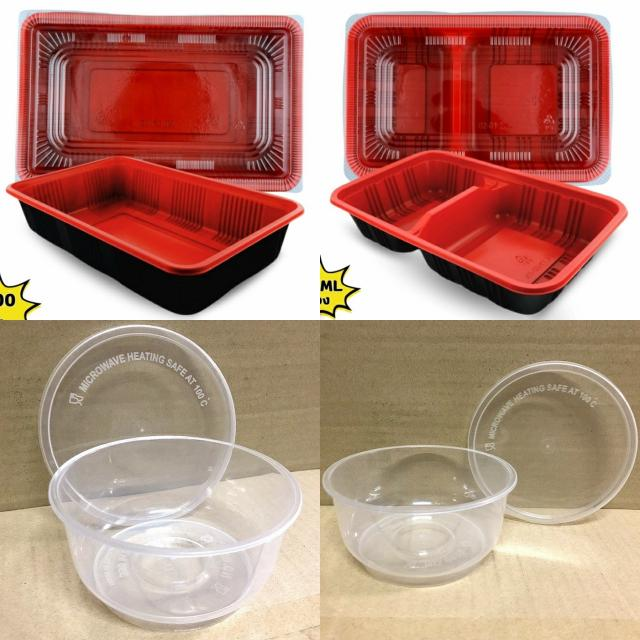Single-Use-Plastic: (18, 12, 302, 190), (49, 436, 301, 629), (331, 151, 626, 313), (8, 158, 304, 314), (345, 14, 610, 182), (39, 325, 236, 473), (468, 361, 638, 524), (322, 445, 516, 586)
